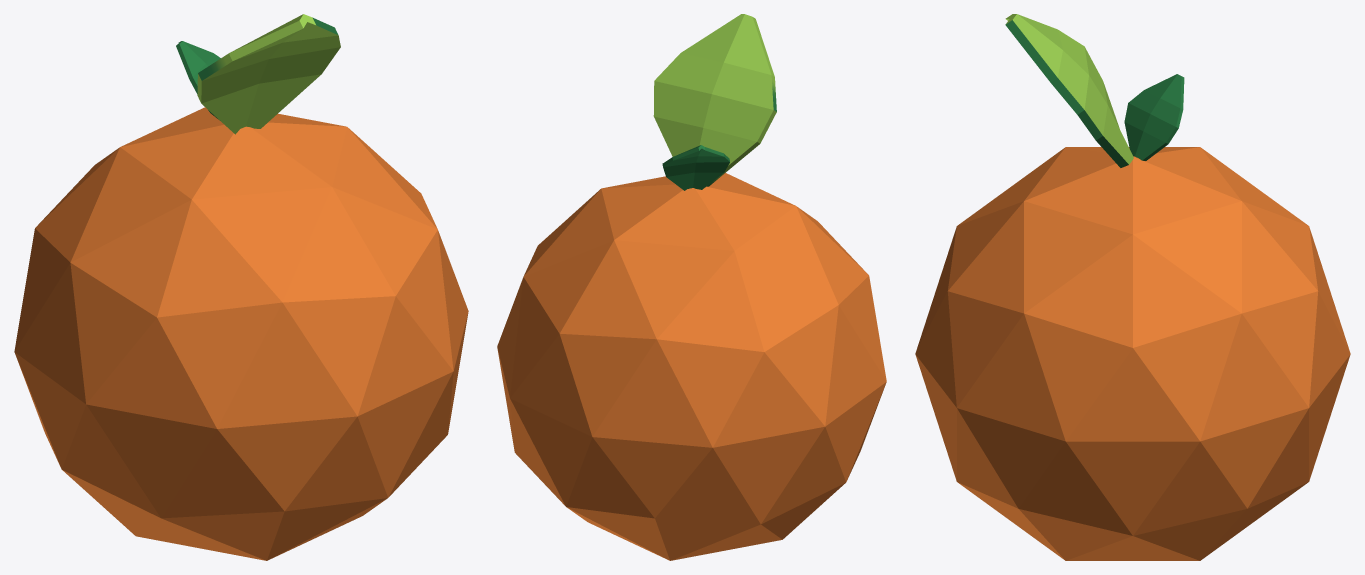
File: orange.fbx
3 views of the same model, side by side, from view 1: azimuth 30°, elevation 25°; view 2: azimuth 150°, elevation 25°; view 3: azimuth 270°, elevation 25° (orthographic). The views are drawn at different scales.
Parts seen in each view (by area): view 1: Cube.005; view 2: Cube.005; view 3: Cube.005.
Part boxes in pixels (box(x1,y1,x2,y2)): Cube.005: box(14, 14, 468, 560); Cube.005: box(497, 14, 886, 560); Cube.005: box(915, 14, 1350, 560).
Bounding box in the file's own units: 81.7 × 117 × 85.9.
